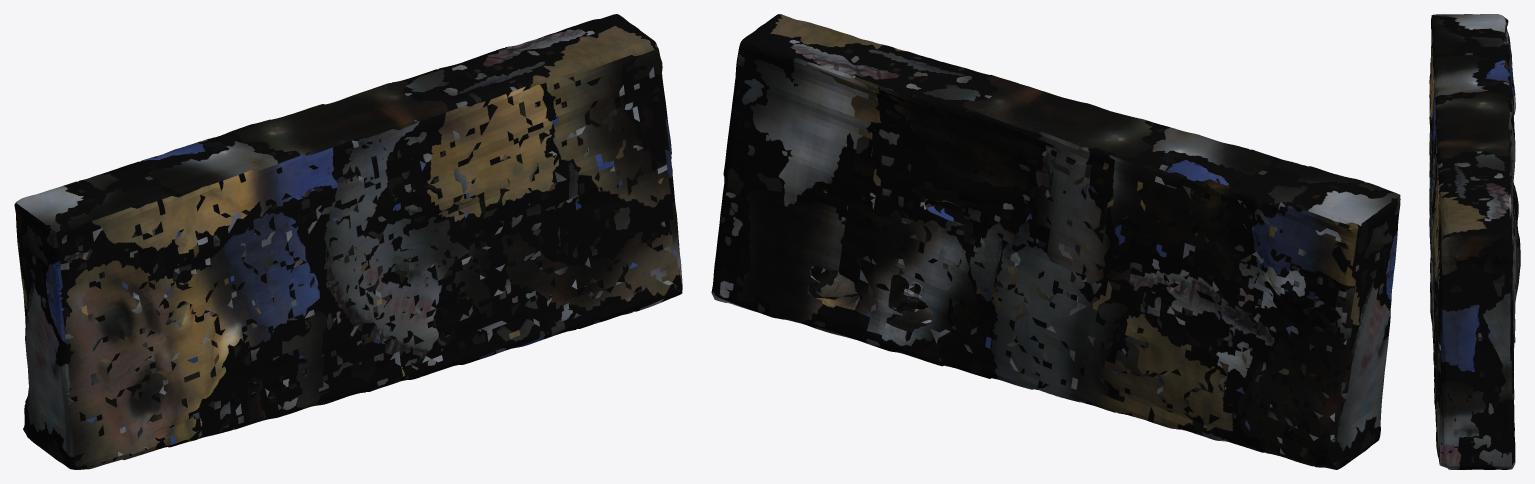
Rendered from center_benchmark_mesh_box-iglo.obj.
3 views of the same model, side by side, from view 1: azimuth 30°, elevation 25°; view 2: azimuth 150°, elevation 25°; view 3: azimuth 270°, elevation 25° (orthographic). The views are drawn at different scales.
Size of the model in its own units: 0.2023 by 0.0868 by 0.0294.
